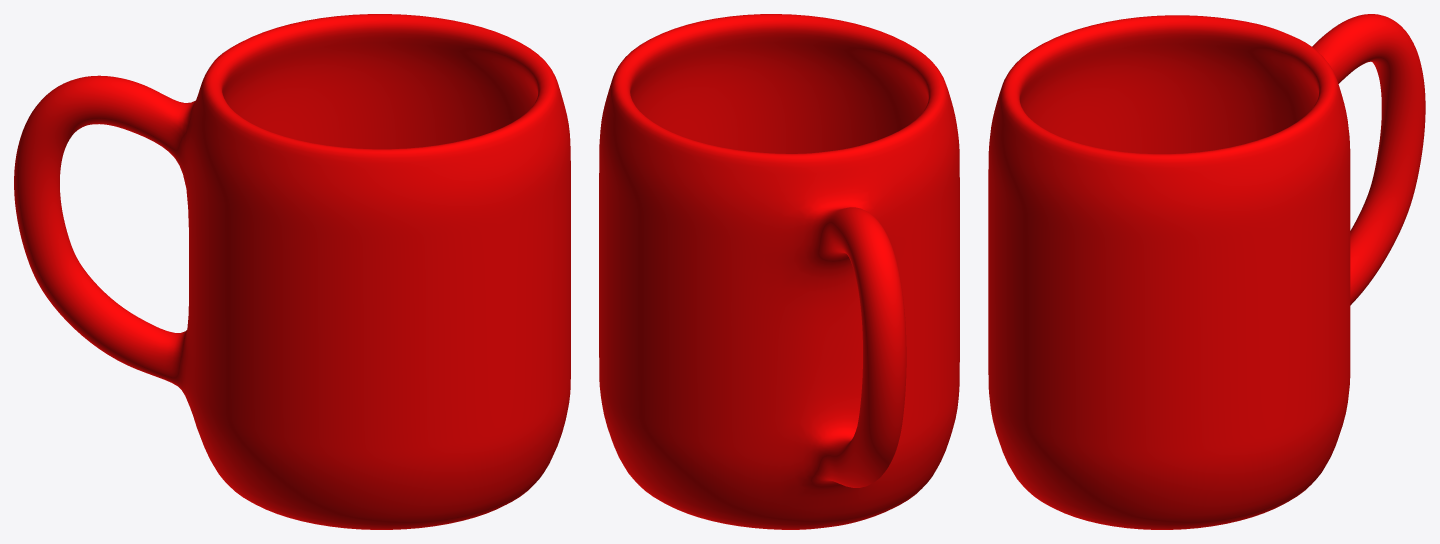
3 views of the same model, side by side, from view 1: azimuth 30°, elevation 25°; view 2: azimuth 150°, elevation 25°; view 3: azimuth 270°, elevation 25° (orthographic).
Visible parts, largest first — view 1: NurbsPath.015; view 2: NurbsPath.015; view 3: NurbsPath.015.
Part boxes in pixels (x1=…): NurbsPath.015: x1=14, y1=14, x2=570, y2=529; NurbsPath.015: x1=599, y1=14, x2=959, y2=529; NurbsPath.015: x1=988, y1=14, x2=1425, y2=529.
Size of the model in its own units: 125 by 114 by 117.
